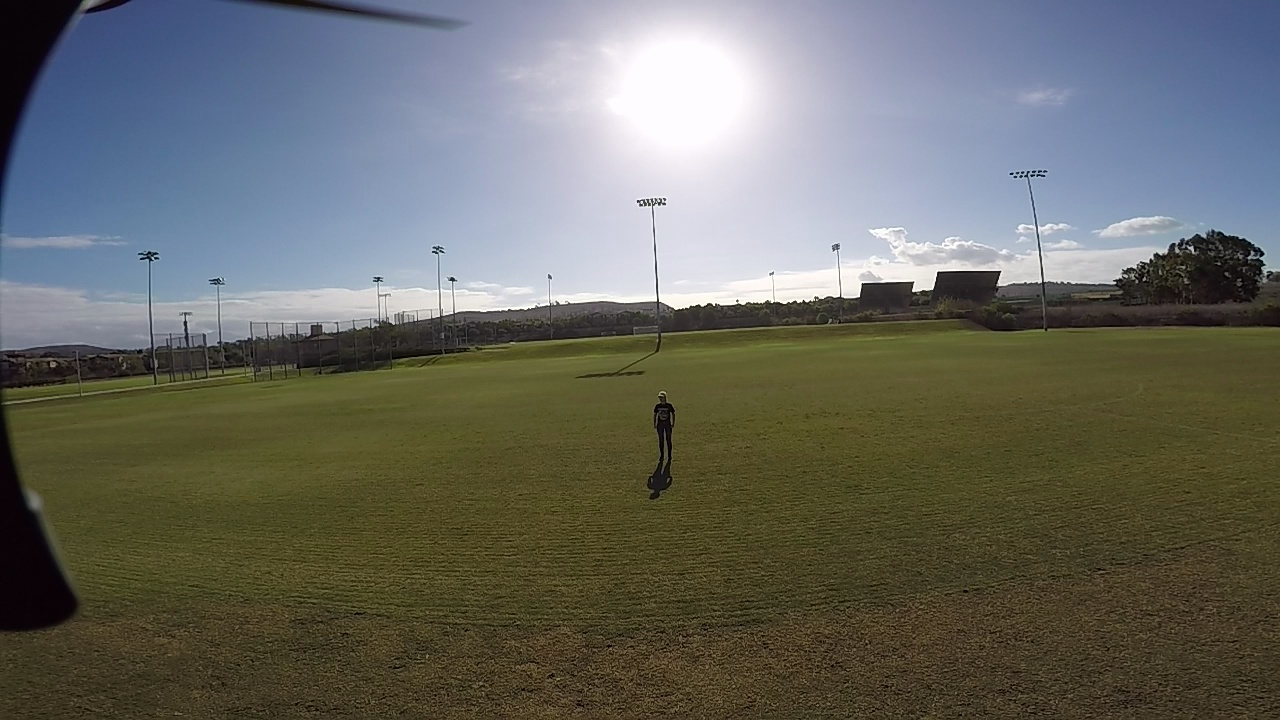person: (645, 385, 669, 490)
